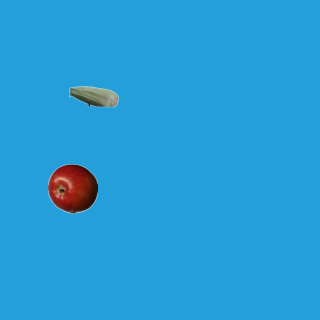Apple Braeburn: (47, 163, 97, 213)
Corn Husk: (68, 71, 118, 121)
